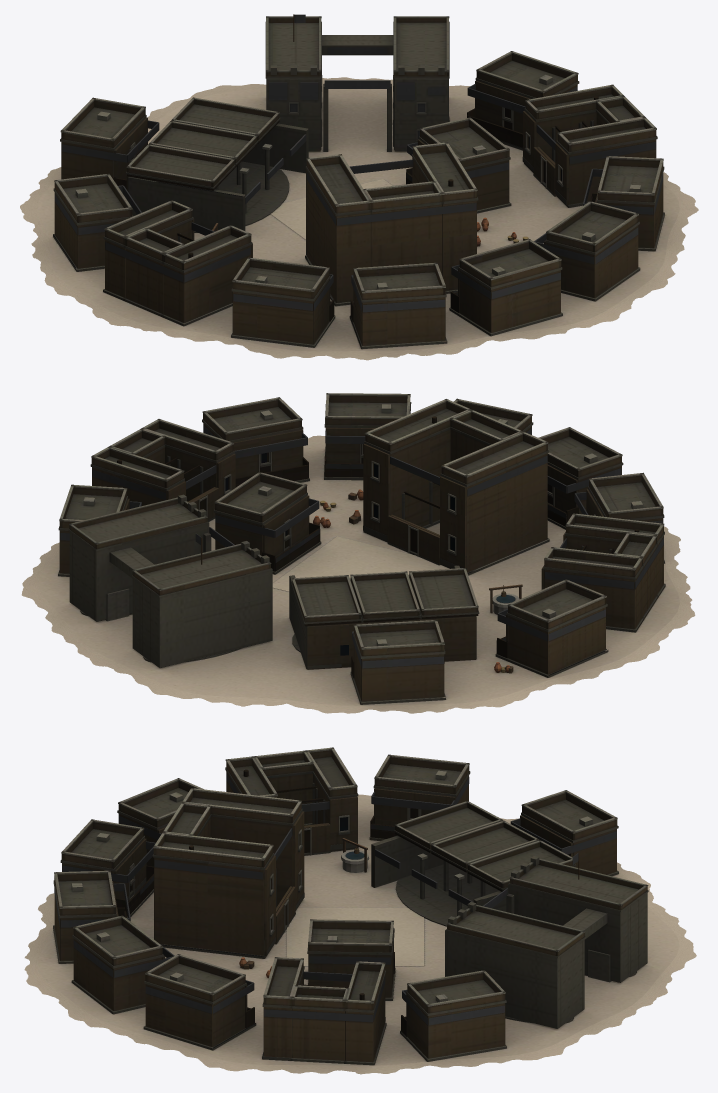
File: bronze-town-medium-b-israelite.glb
The picture shows the model from 3 angles, top to bottom: view 1: azimuth 30°, elevation 25°; view 2: azimuth 150°, elevation 25°; view 3: azimuth 270°, elevation 25°; orthographic projection.
Parts seen in each view (by area): view 1: LOD0; view 2: LOD0; view 3: LOD0.
Part boxes in pixels (left/top/right/bottom): LOD0: left=20, top=14, right=698, bottom=360; LOD0: left=21, top=393, right=695, bottom=713; LOD0: left=24, top=747, right=696, bottom=1074.
Size of what is drawn, in the model's own units: 5.91 by 1.08 by 6.05.
Materials: 3 (3 with a texture image).
